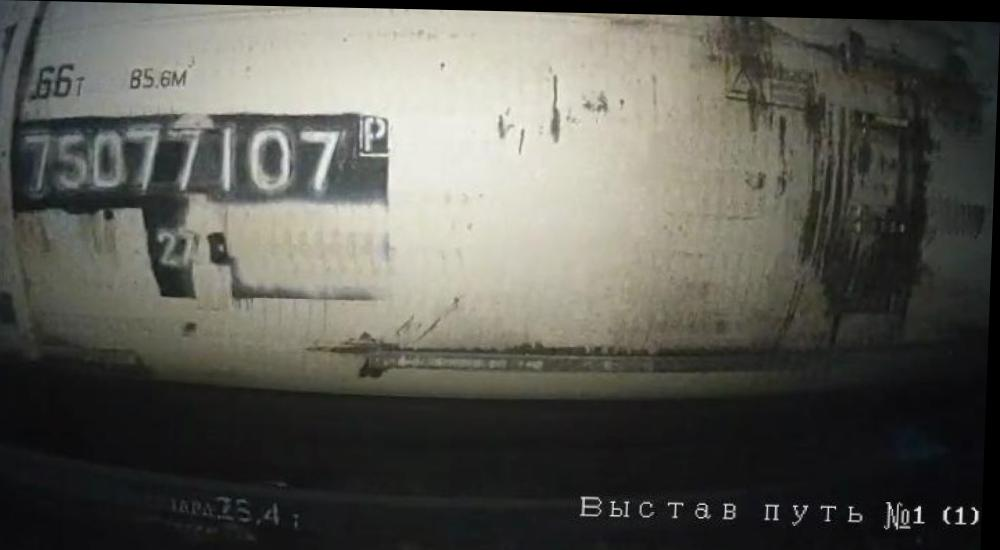Wagon-number: (20, 113, 349, 203)
